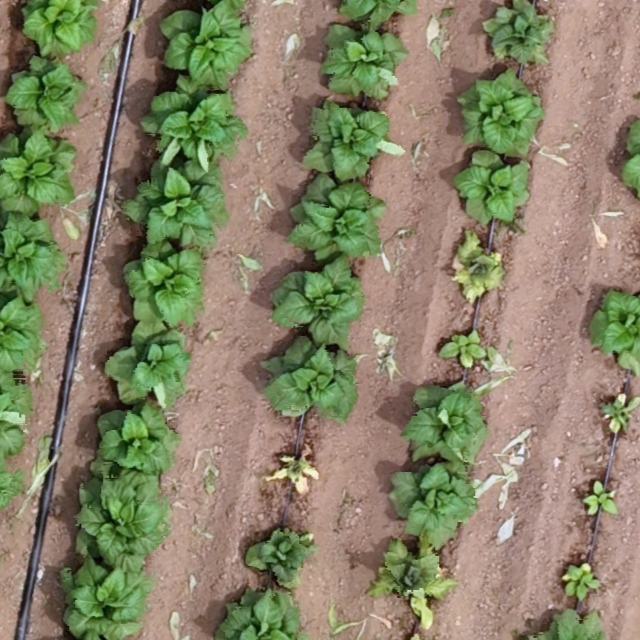disease_tobacco: (446, 234, 509, 304), (435, 325, 507, 378), (265, 446, 319, 494), (597, 385, 639, 435)
grow_tobacco: (64, 467, 169, 568), (119, 159, 227, 248), (259, 331, 360, 424), (286, 172, 386, 265), (138, 78, 244, 164), (386, 456, 483, 546), (451, 65, 544, 158), (45, 559, 153, 639), (300, 95, 397, 183), (153, 1, 255, 84), (401, 371, 489, 466), (117, 241, 209, 331), (269, 259, 367, 342), (315, 17, 407, 103), (103, 323, 193, 406), (88, 396, 179, 476), (452, 146, 533, 231), (1, 52, 88, 131), (372, 539, 453, 620), (1, 126, 76, 211), (1, 207, 65, 295), (584, 279, 640, 374), (212, 583, 305, 639), (12, 1, 101, 56), (481, 1, 554, 68), (242, 523, 312, 585), (1, 288, 47, 373), (610, 103, 640, 208), (525, 607, 612, 640), (331, 1, 421, 26), (558, 557, 601, 605), (579, 478, 618, 521), (1, 450, 21, 514)
